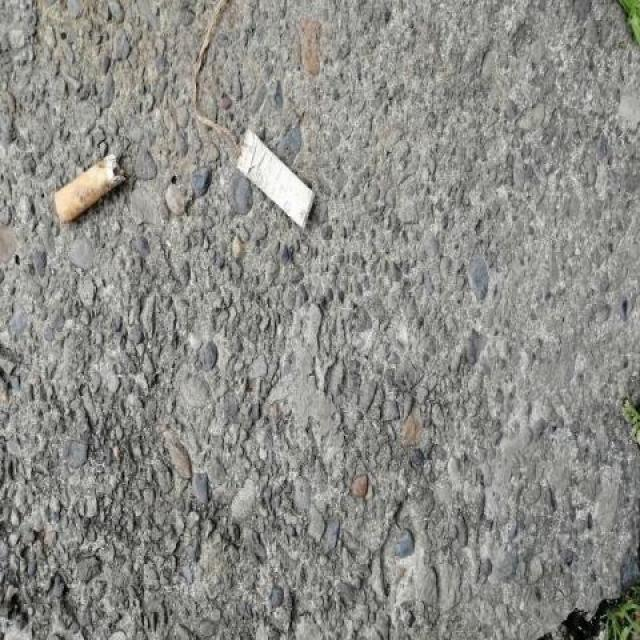non-organic waste: (231, 124, 317, 235), (51, 148, 128, 229)
